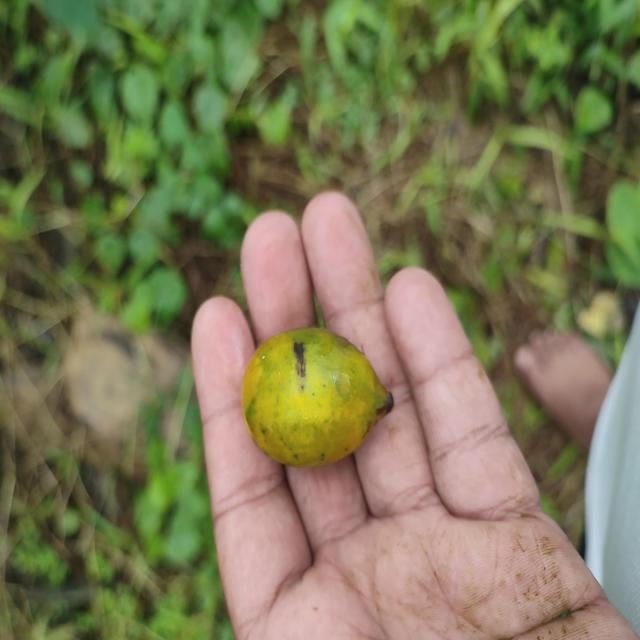damaged: (240, 327, 394, 470)
